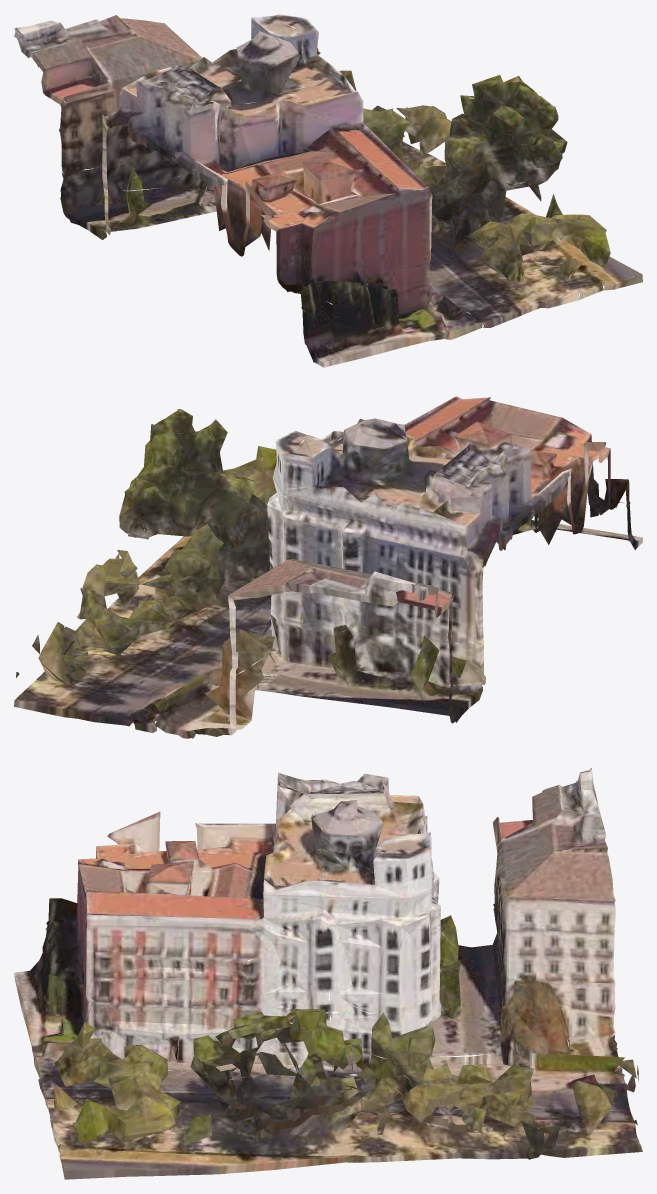
3 renders of one model, top to bottom at view 1: azimuth 30°, elevation 25°; view 2: azimuth 150°, elevation 25°; view 3: azimuth 270°, elevation 25°, orthographic. The views are drawn at different scales.
Visible parts, largest first — view 1: Mesh_0; view 2: Mesh_0; view 3: Mesh_0.
Part boxes in pixels (x1=…): Mesh_0: x1=14, y1=14, x2=642, y2=367; Mesh_0: x1=14, y1=396, x2=642, y2=738; Mesh_0: x1=14, y1=768, x2=642, y2=1179.
Bounding box in the file's own units: 66.59 × 35.49 × 82.63.
Materials: 1 (1 with a texture image).
